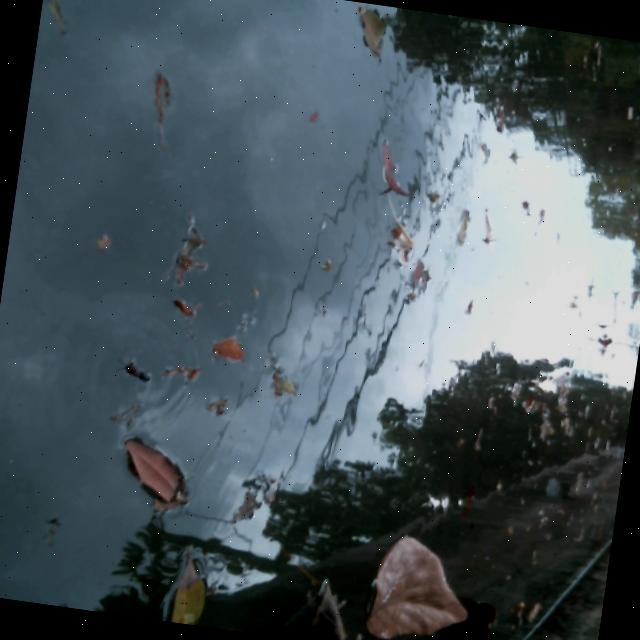Big-leaf: (357, 536, 483, 640), (295, 569, 372, 640), (469, 601, 510, 640)
Small-leaf: (107, 429, 207, 515), (127, 64, 188, 145), (336, 0, 406, 69), (357, 143, 440, 201), (162, 552, 225, 628), (193, 329, 261, 373), (511, 598, 547, 630)
